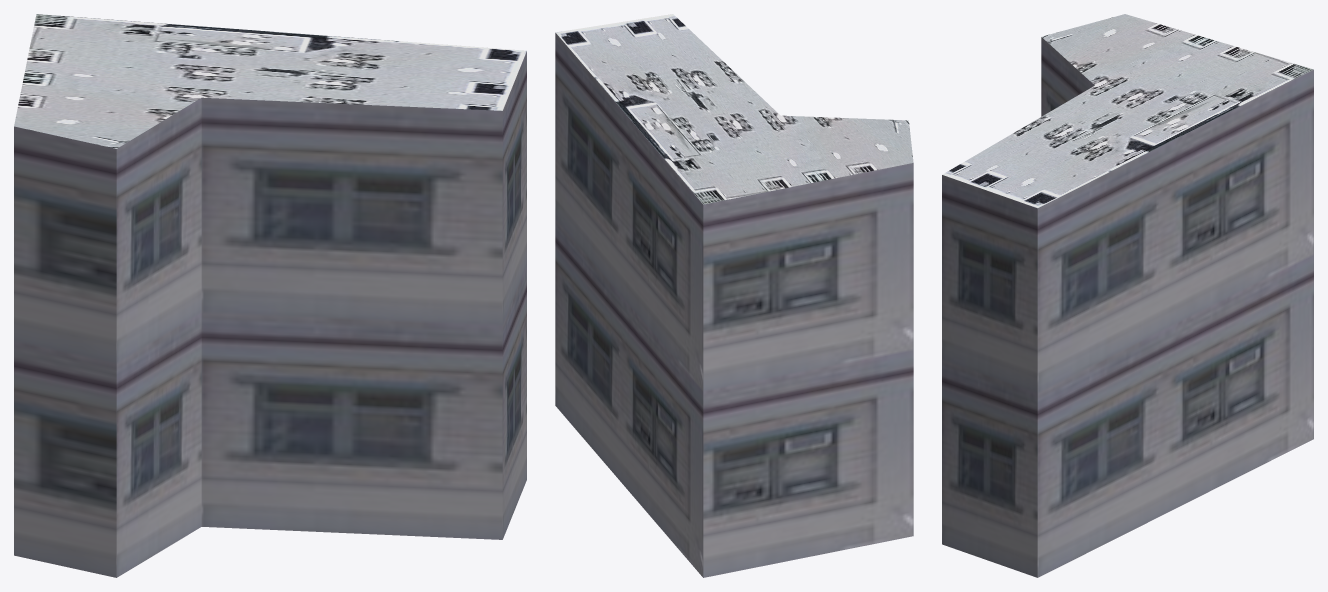
Rendered from ResTex__4404.fbx.
3 renders of one model, left to right at view 1: azimuth 30°, elevation 25°; view 2: azimuth 150°, elevation 25°; view 3: azimuth 270°, elevation 25°, orthographic. The views are drawn at different scales.
Visible parts, largest first — view 1: CityEngineMaterial_1_m, CityEngineMaterial_8_m; view 2: CityEngineMaterial_1_m, CityEngineMaterial_8_m; view 3: CityEngineMaterial_1_m, CityEngineMaterial_8_m.
Part boxes in pixels (bbox=[...]): CityEngineMaterial_1_m: bbox=[14, 51, 526, 577]; CityEngineMaterial_8_m: bbox=[14, 14, 526, 148]; CityEngineMaterial_1_m: bbox=[555, 33, 913, 577]; CityEngineMaterial_8_m: bbox=[555, 14, 913, 204]; CityEngineMaterial_1_m: bbox=[942, 37, 1313, 577]; CityEngineMaterial_8_m: bbox=[942, 14, 1313, 208].
Bounding box in the file's own units: 6.76 × 6 × 5.47.
Materials: 2 (2 with a texture image).
